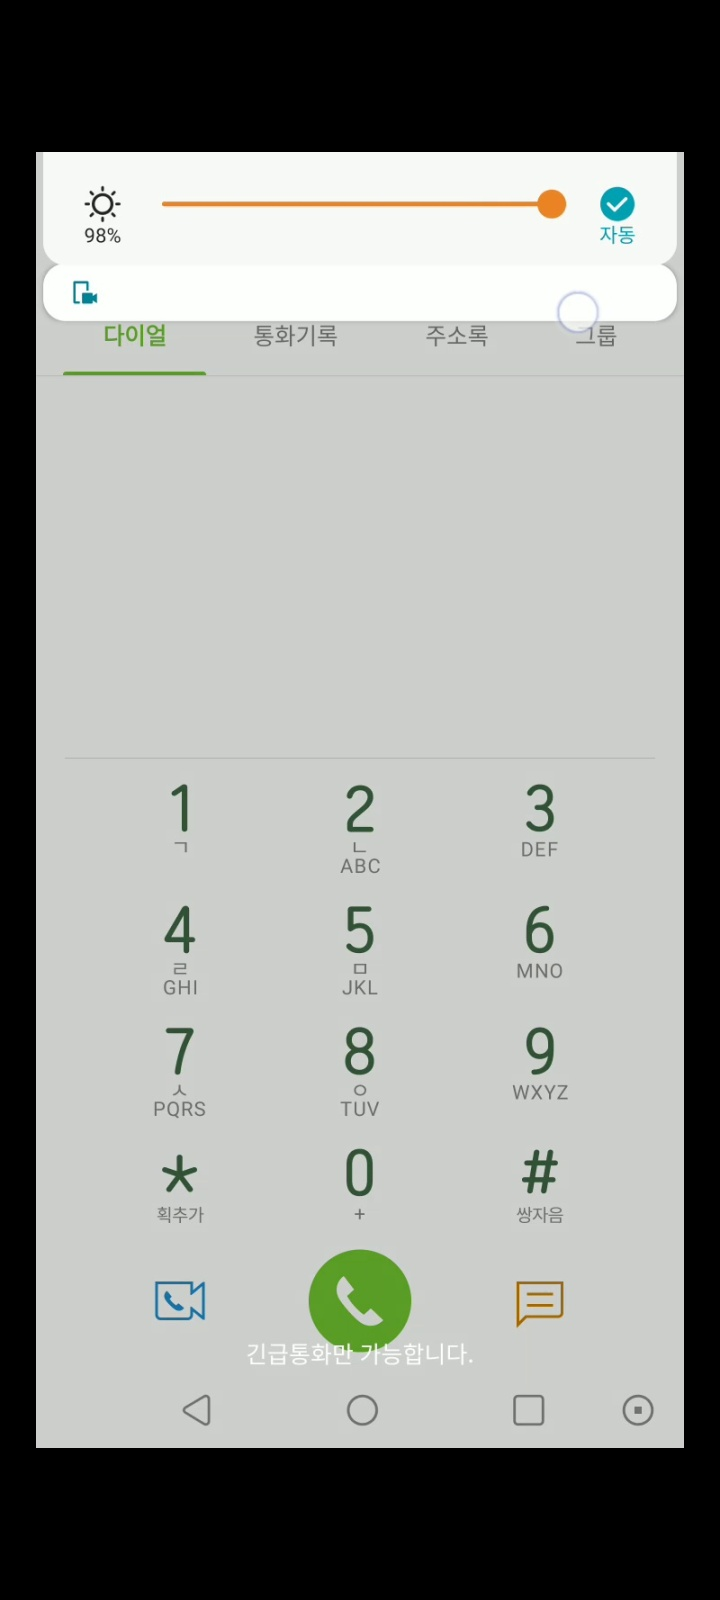Cursor: (557, 289, 602, 334)
